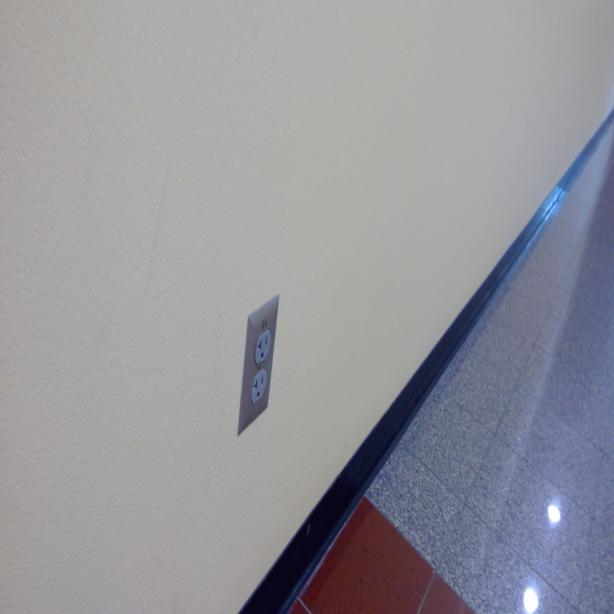typeb: (256, 330, 272, 360), (252, 371, 267, 400)
